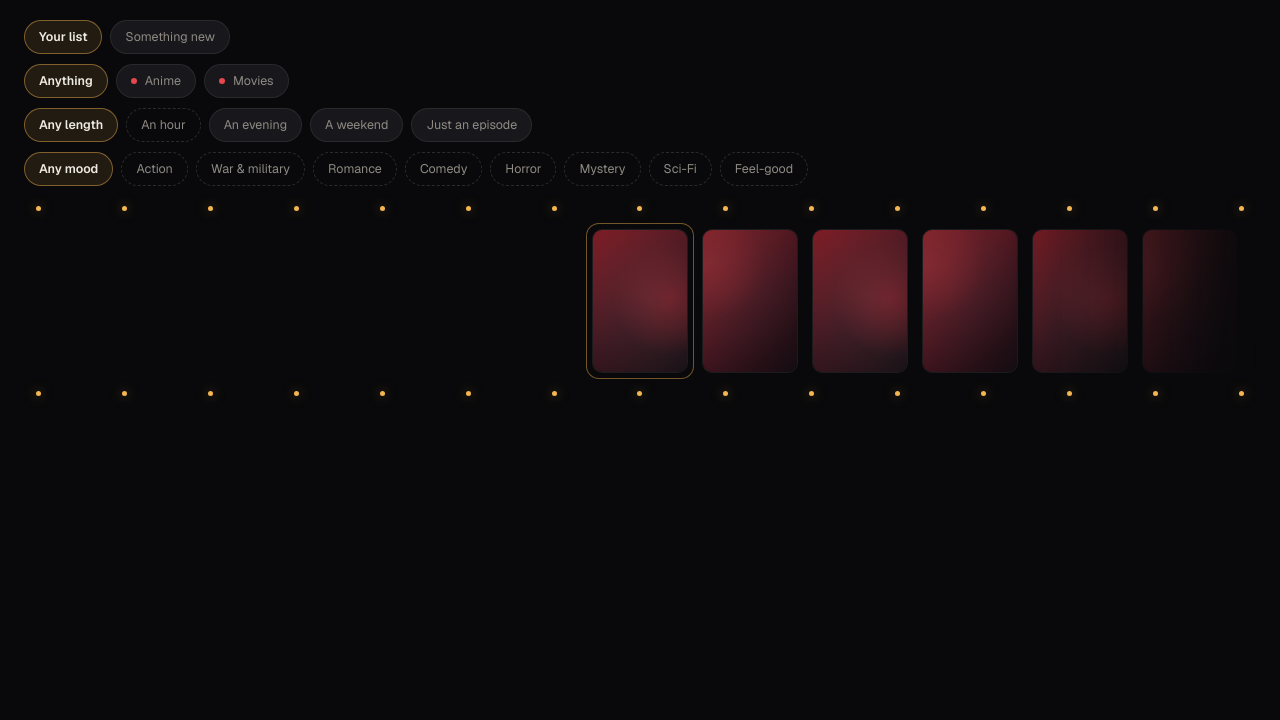
Test case: SurpriseContent › says so in words when nothing can be finished in the time, and offers a way out
Click the button named "An hour, nothing fits": coordinates (164, 125) [126,108,201,142]
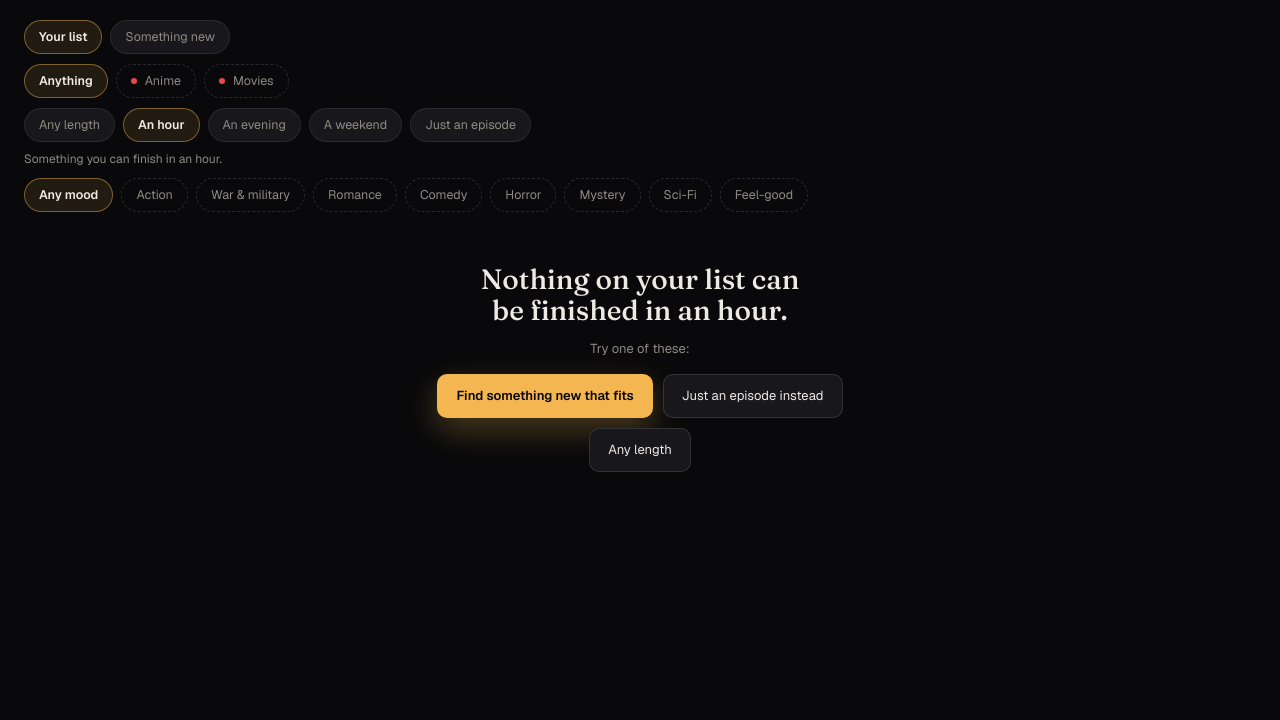
Expected: the text "Tonight:" is not shown
Now the text "Nothing on your list can be finished in an hour." is shown, box [481,262,799,327]
Click the button "Just an episode instead": coordinates (753, 396) [663,374,842,418]
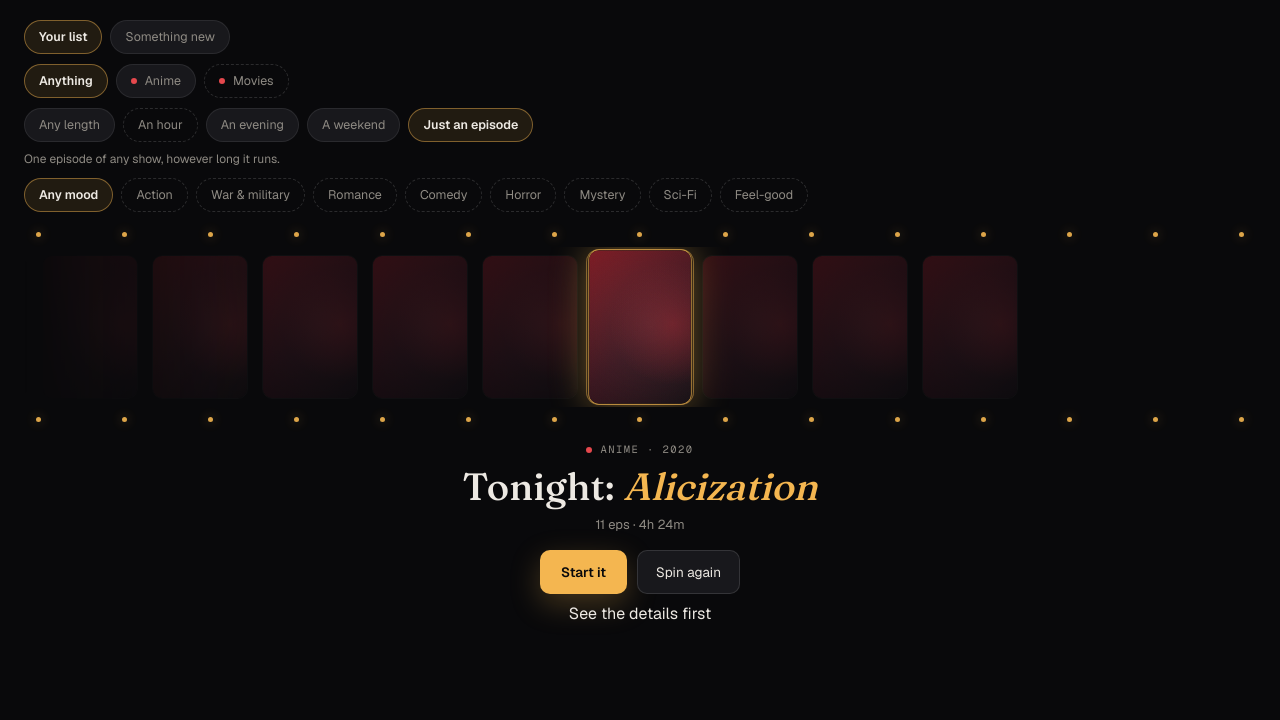
Now the text "Alicization" is shown, box [623,463,817,510]
